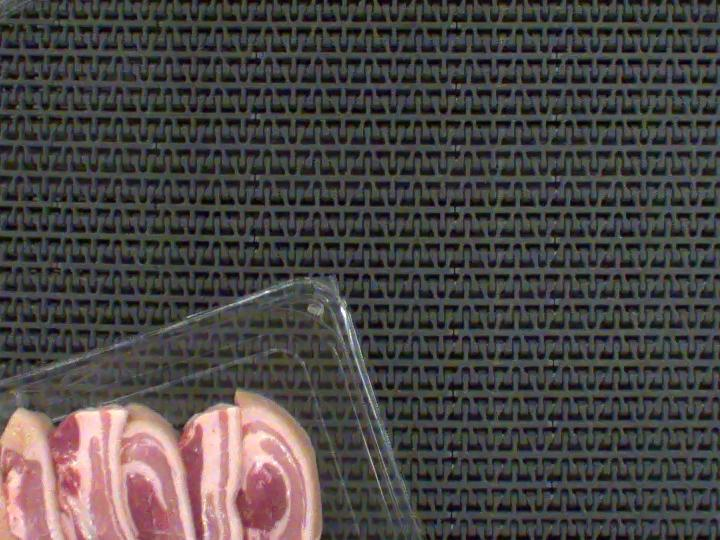packaging-error: (8, 387, 37, 418)
